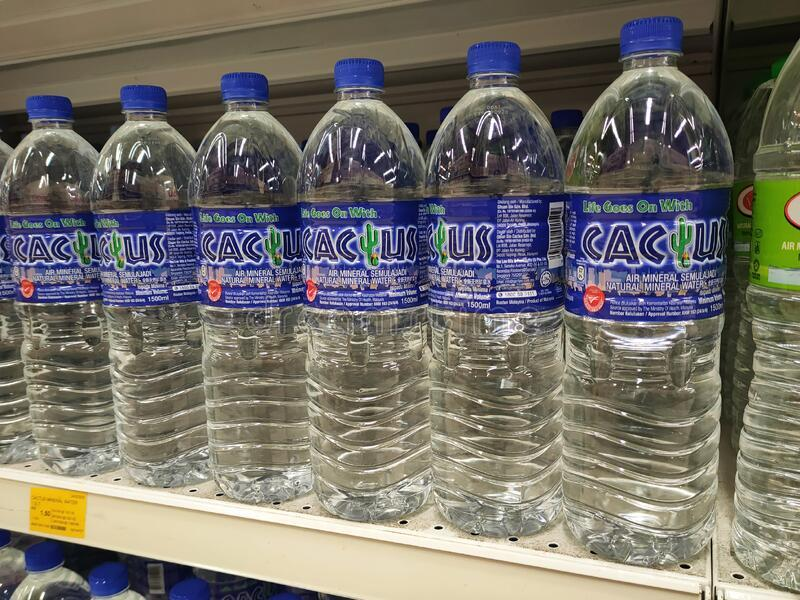plastic: (563, 17, 732, 566), (420, 42, 562, 537), (299, 58, 430, 520), (190, 73, 311, 502), (92, 85, 207, 486), (0, 95, 118, 474), (732, 41, 799, 593)
